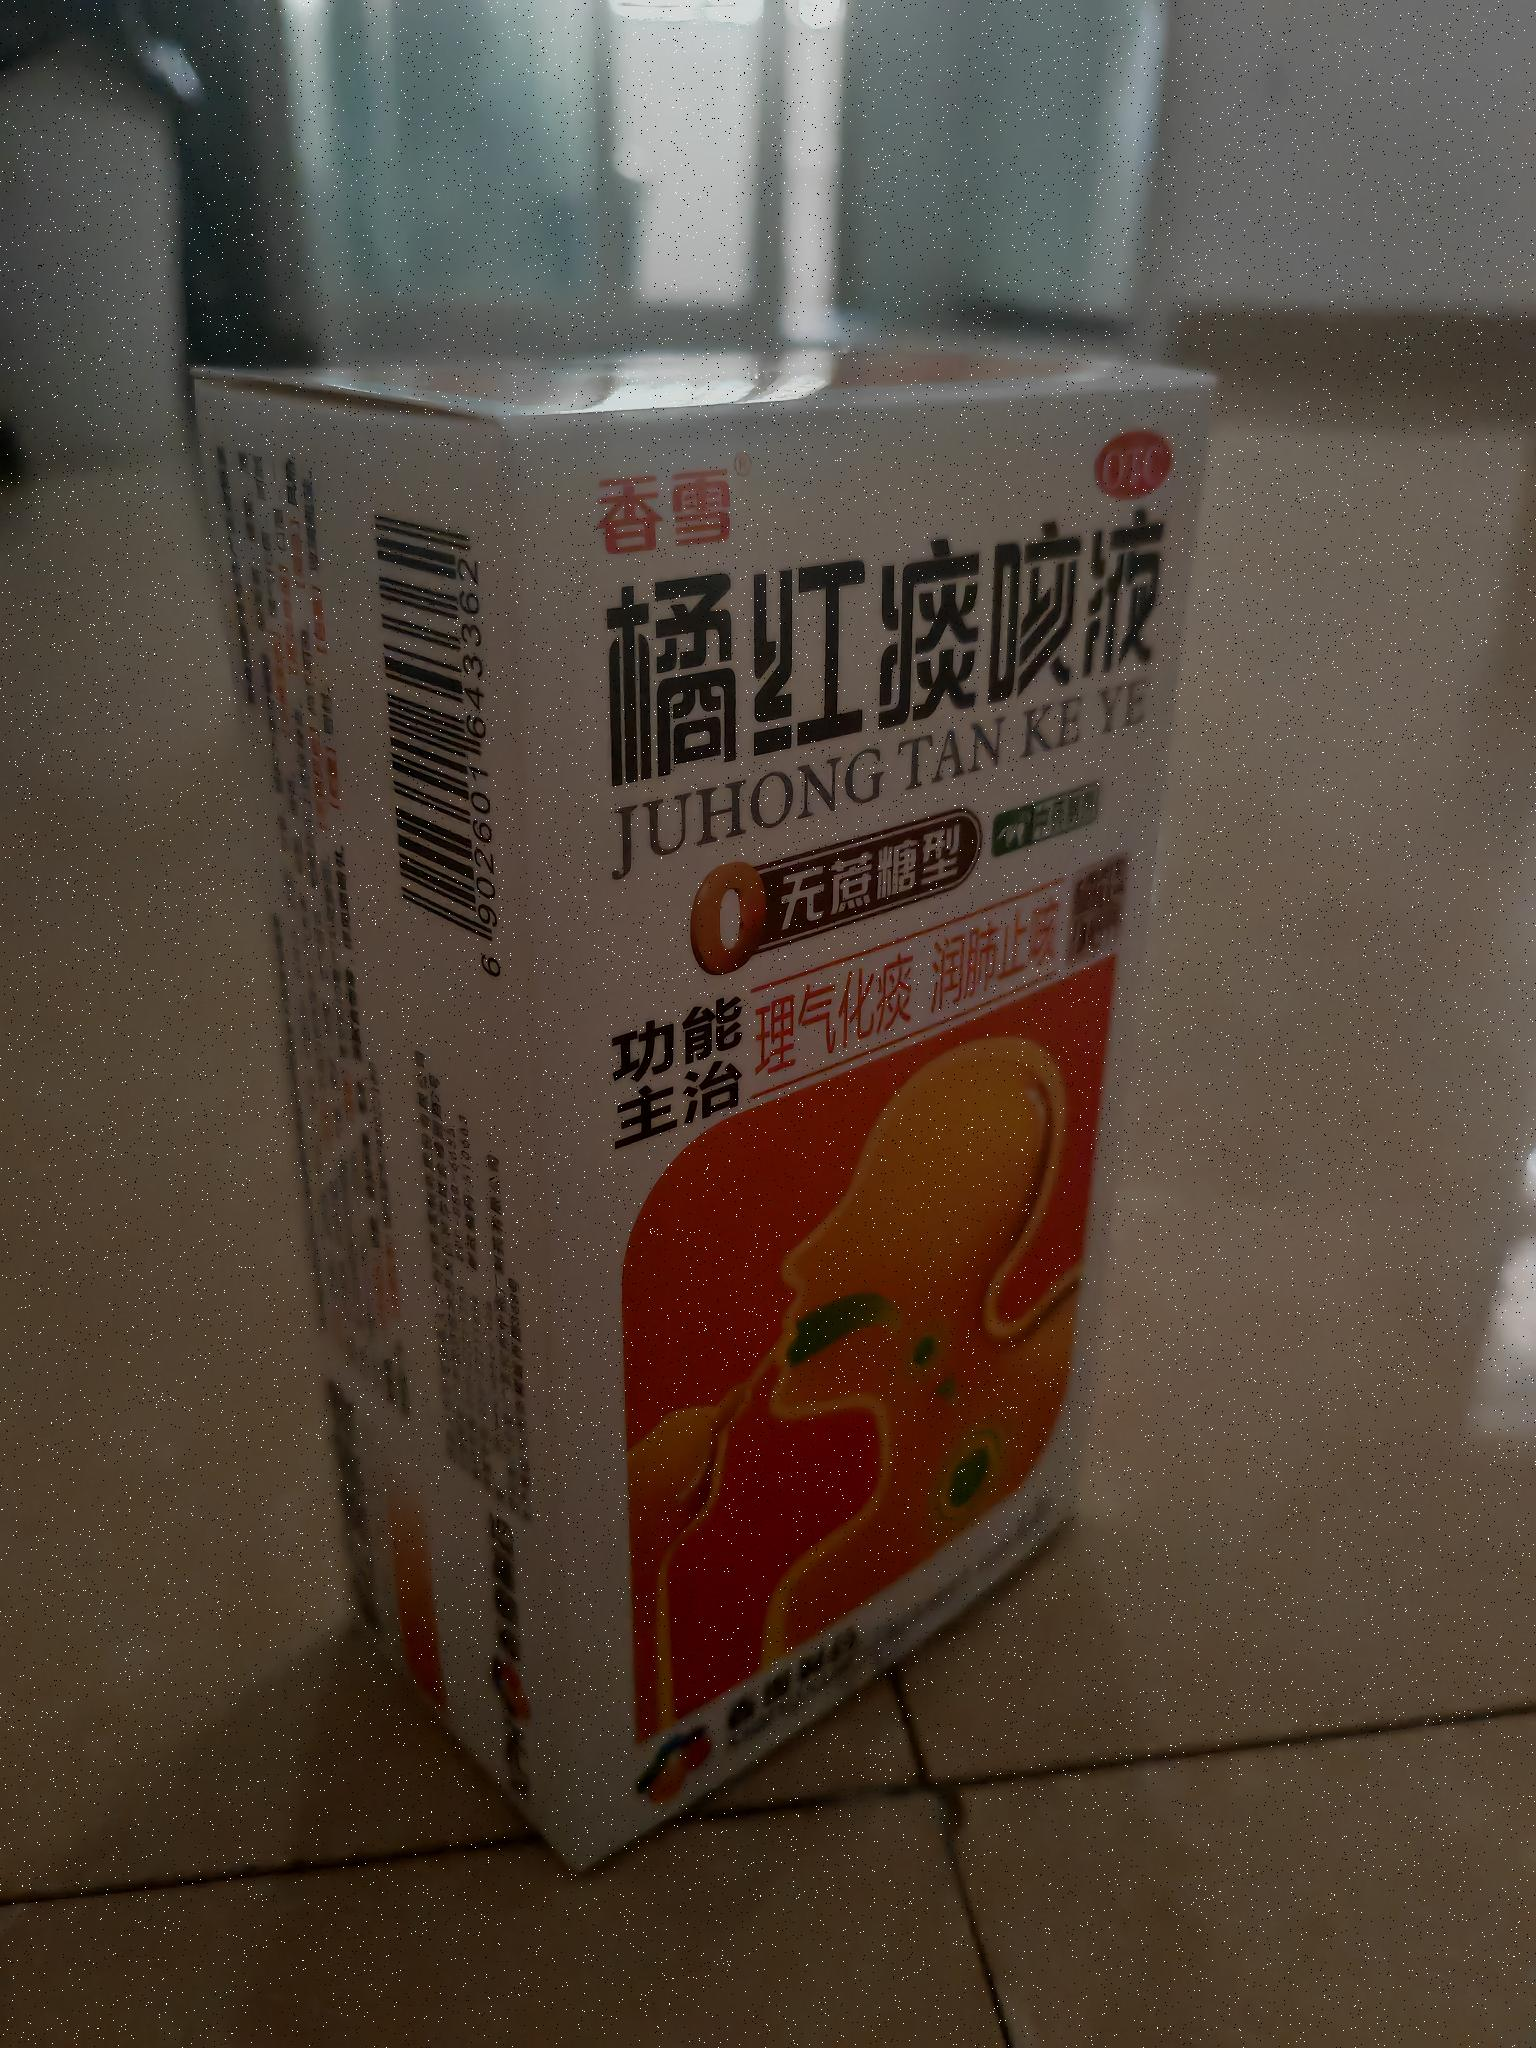Medicine1: (148, 305, 1250, 1893)
